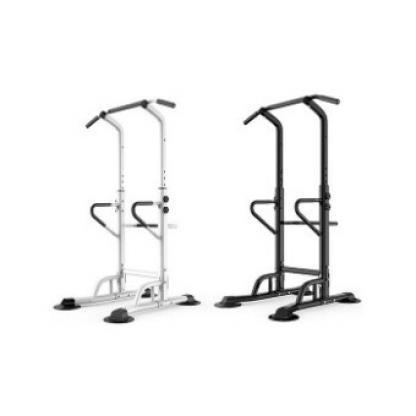chinning dipping: (56, 95, 202, 325), (217, 94, 363, 321)
